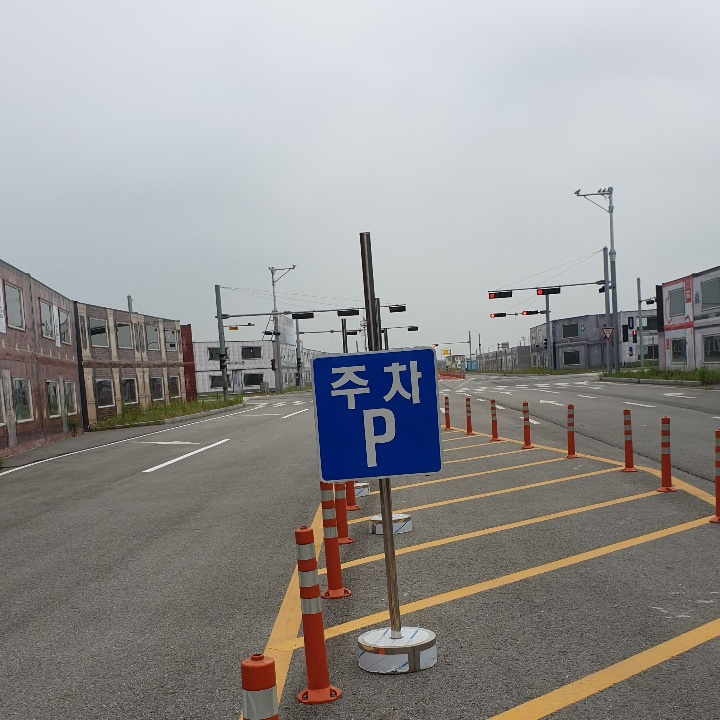parking: (354, 403, 403, 473)
